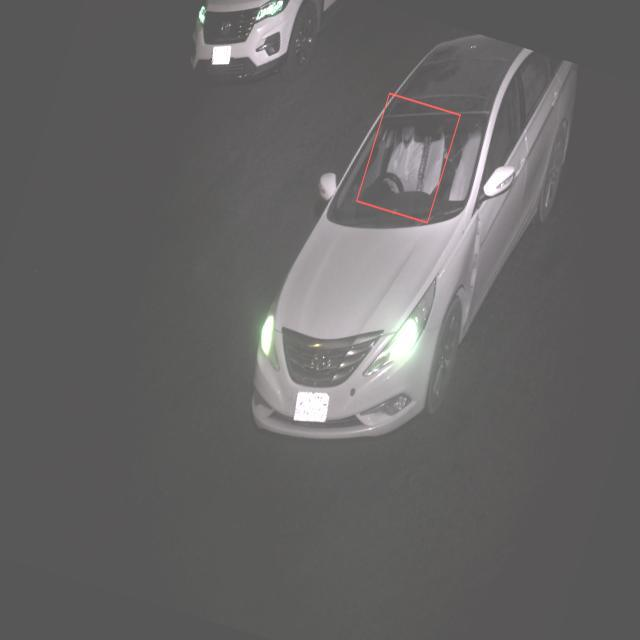windshield: (318, 104, 494, 228)
